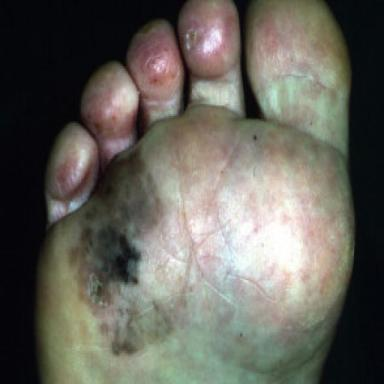Melanoma: (65, 140, 173, 360)
